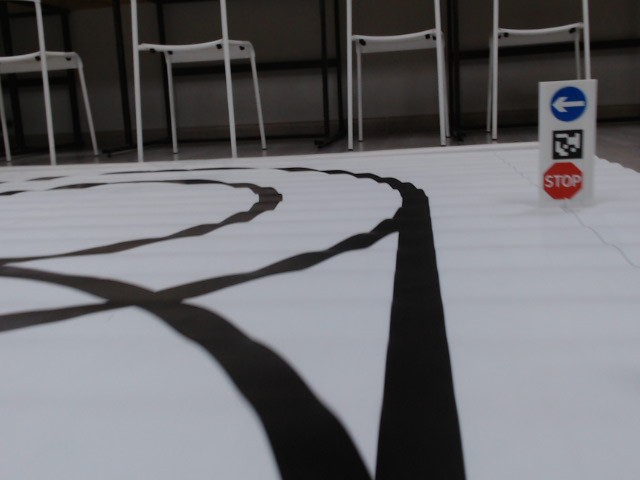Stop: (545, 162, 583, 201)
